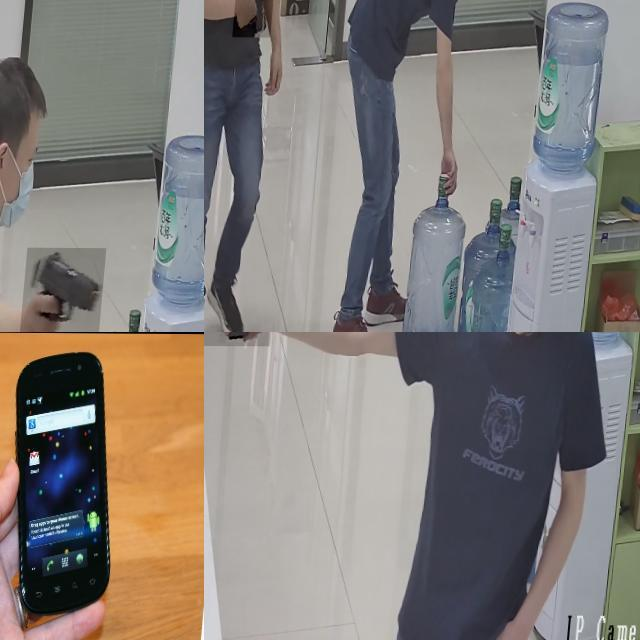gun-knife-thesis - v11 Yolov5 augmented: (24, 247, 111, 332), (204, 332, 283, 388), (236, 0, 278, 37)
